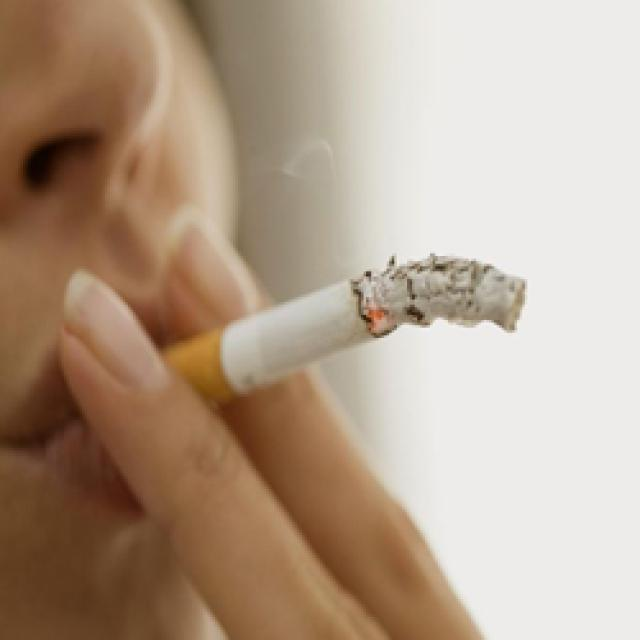Smooking: (118, 234, 537, 386)
